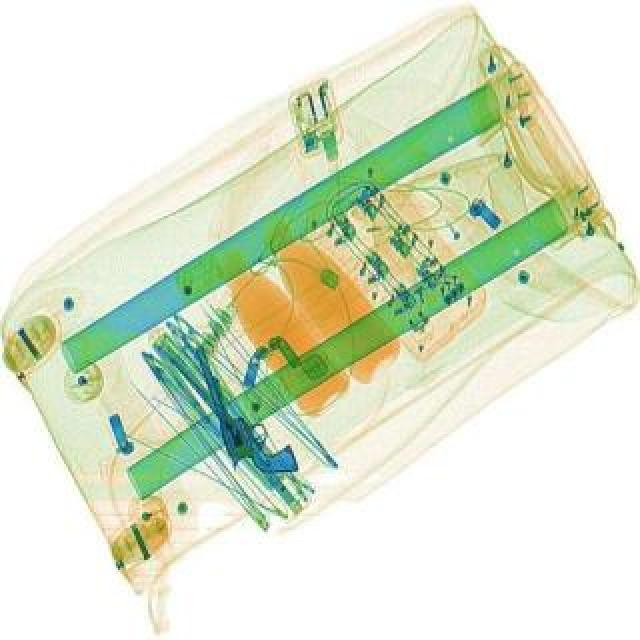gun: (194, 328, 298, 484)
